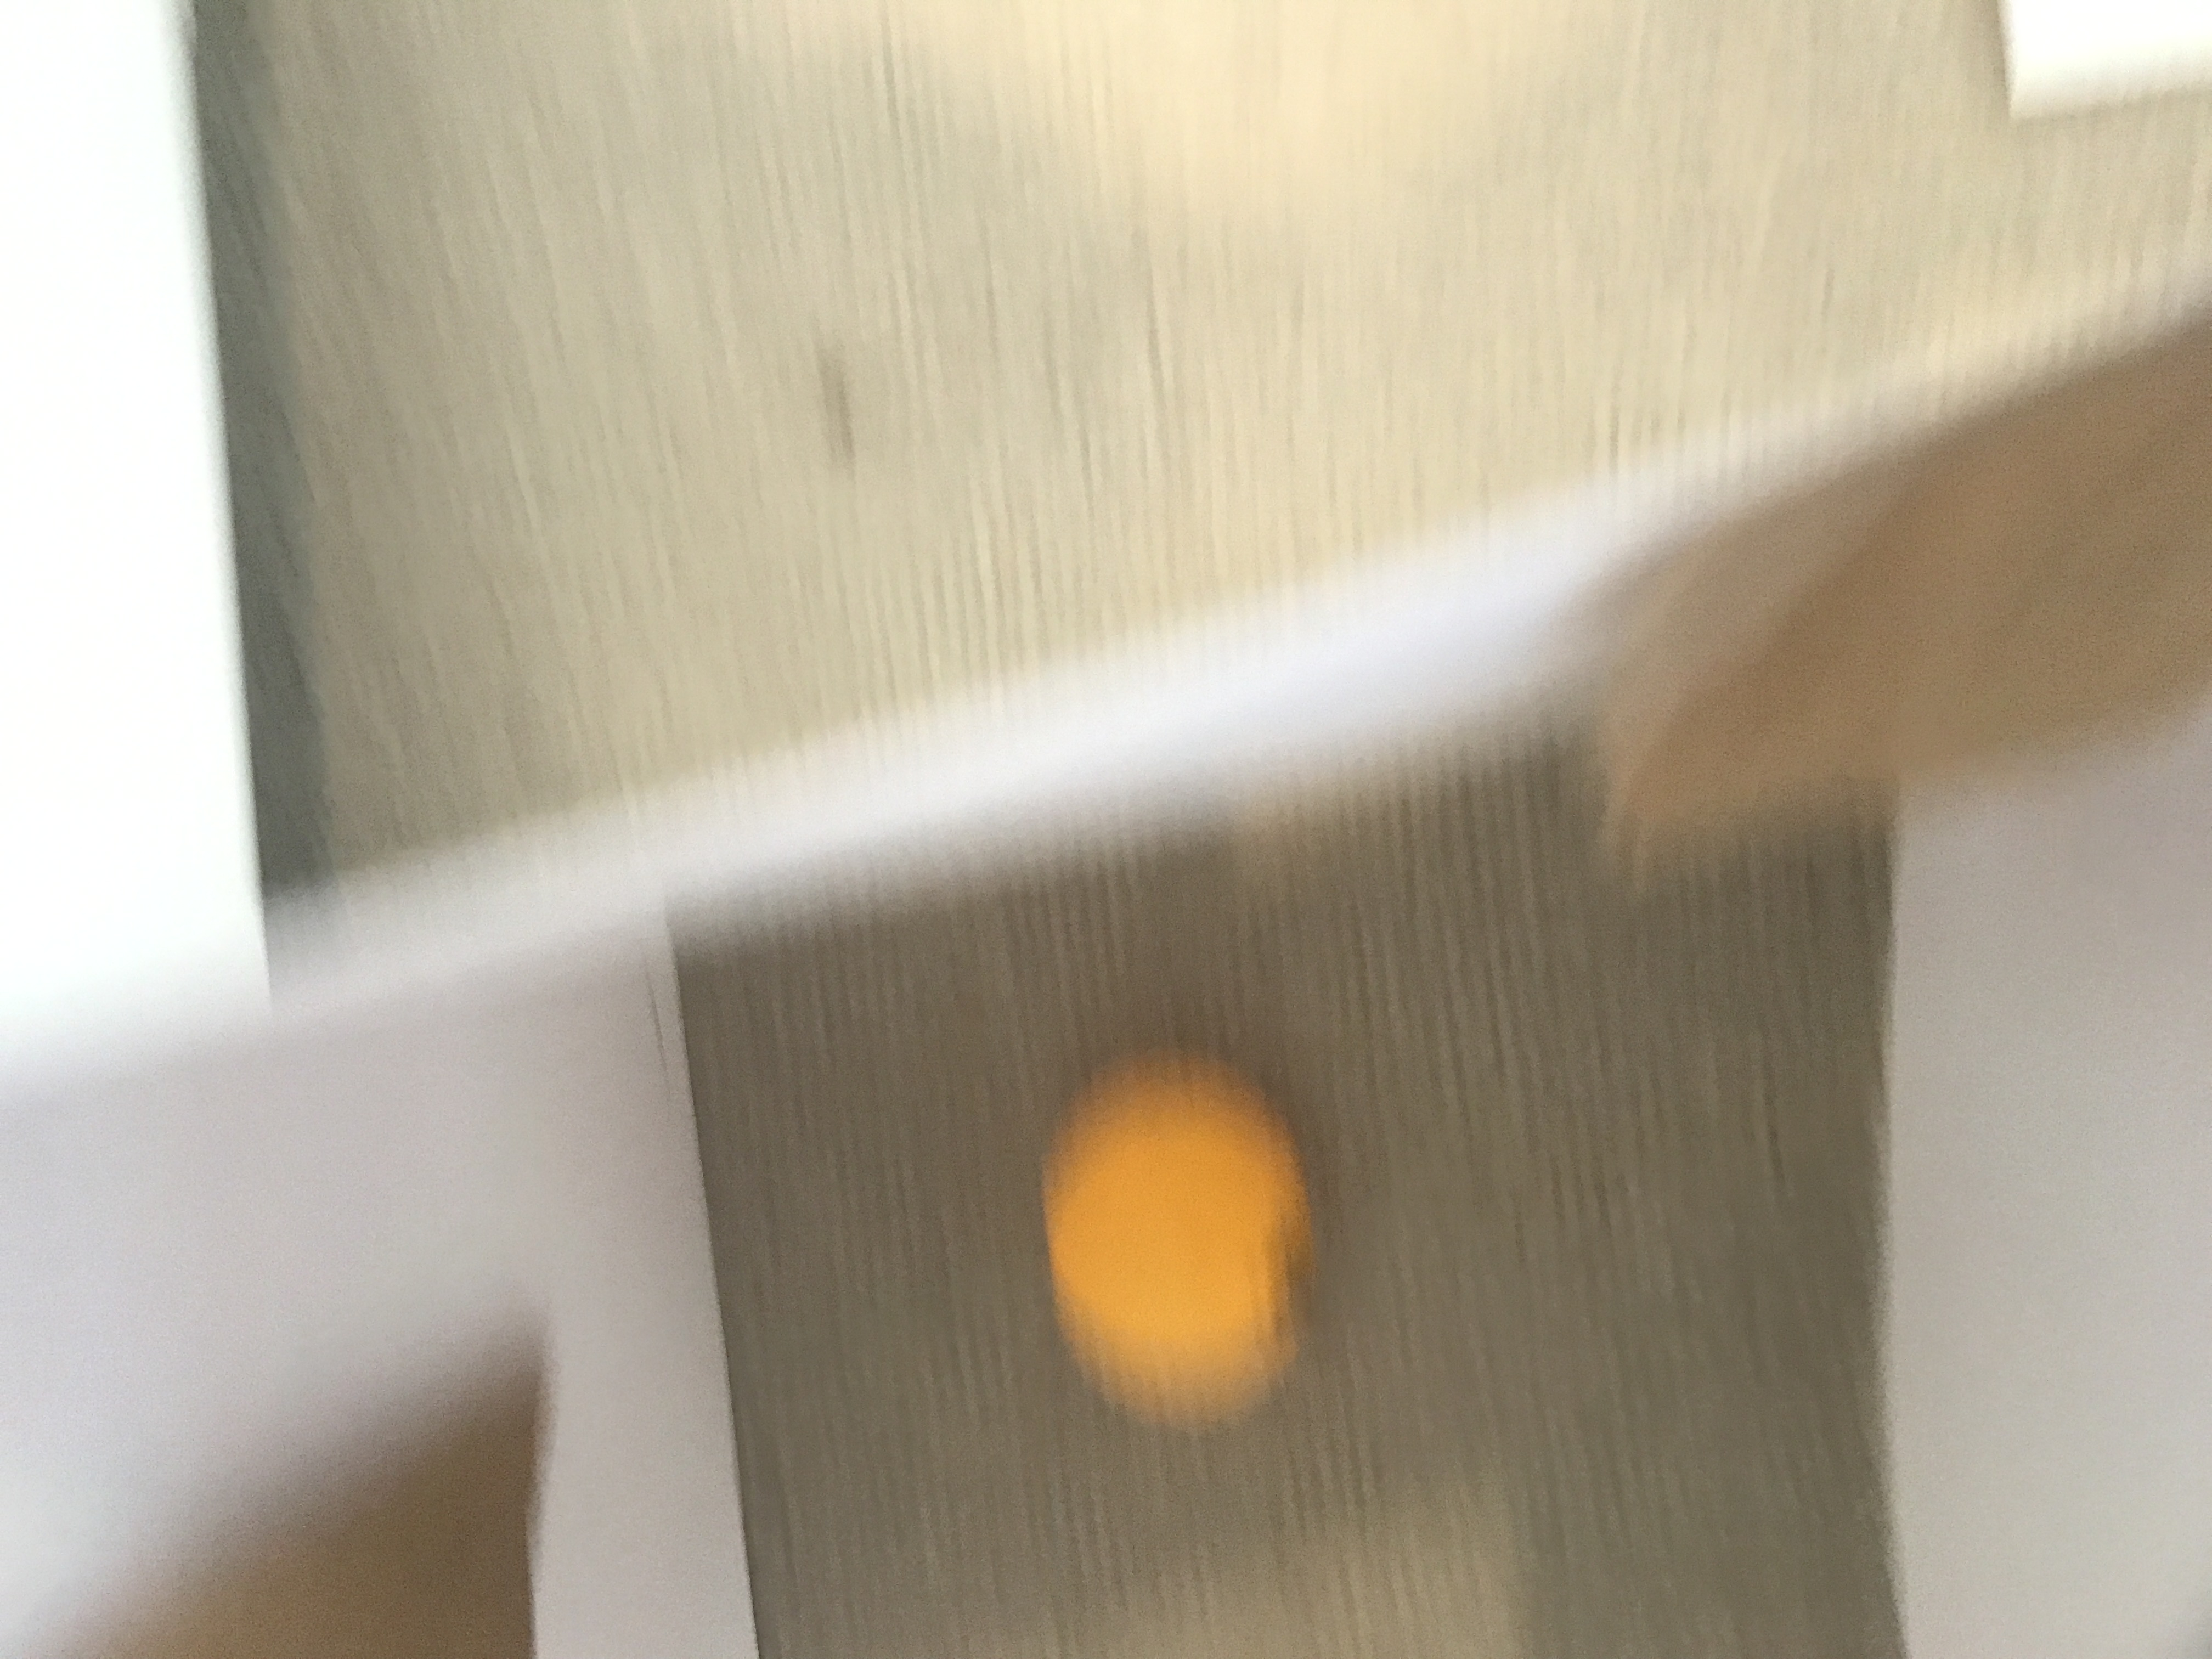pp: (1019, 1066, 1322, 1439)
